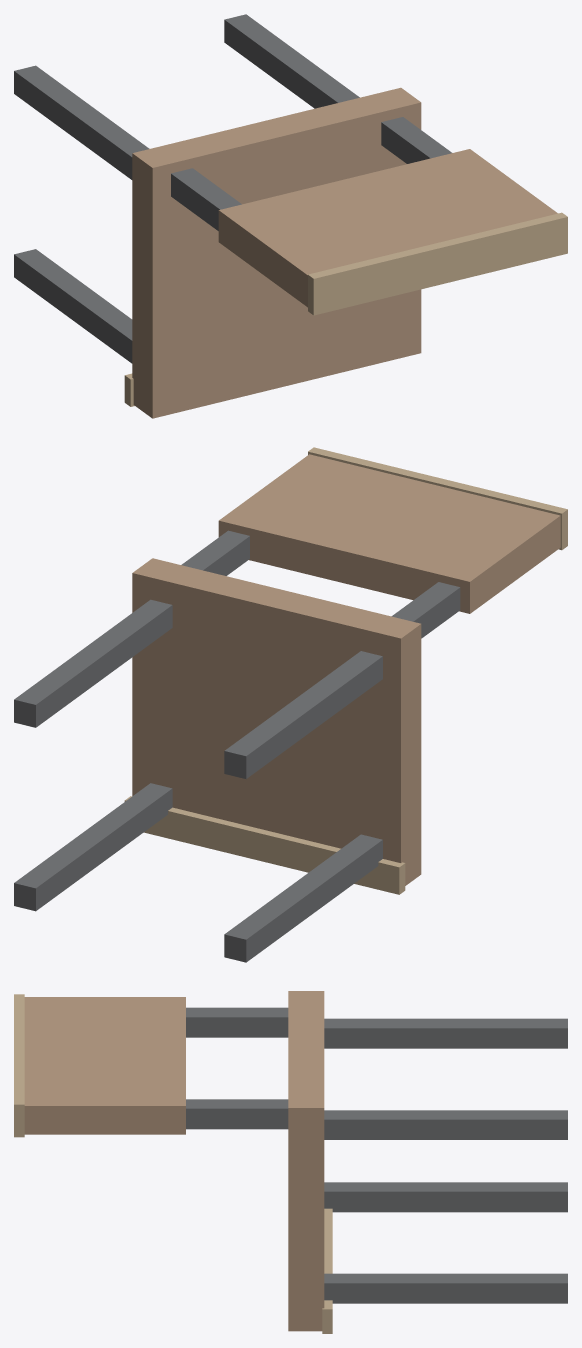
File: low_poly_chair.glb
3 renders of one model, top to bottom at view 1: azimuth 30°, elevation 25°; view 2: azimuth 150°, elevation 25°; view 3: azimuth 270°, elevation 25°, orthographic. The views are drawn at different scales.
Parts seen in each view (by area): view 1: seat, backrest, backrest_top_trim, leg_-0.36_0.3, leg_-0.36_-0.3, leg_0.36_0.3, back_post_-0.36, back_post_0.36; view 2: seat, backrest, leg_0.36_0.3, leg_-0.36_0.3, leg_-0.36_-0.3, leg_0.36_-0.3, seat_front_trim, backrest_top_trim, back_post_-0.36, back_post_0.36; view 3: backrest, seat, leg_-0.36_0.3, leg_0.36_-0.3, leg_-0.36_-0.3, leg_0.36_0.3, back_post_-0.36, back_post_0.36, backrest_top_trim, seat_front_trim.
Boxes of the visible parts, x1,y1,x2,y2 form: seat: [132, 87, 421, 418]; backrest: [218, 149, 557, 307]; backrest_top_trim: [308, 212, 567, 315]; leg_-0.36_0.3: [14, 65, 149, 179]; leg_-0.36_-0.3: [14, 249, 132, 363]; leg_0.36_0.3: [224, 14, 359, 108]; back_post_-0.36: [171, 168, 241, 230]; back_post_0.36: [381, 117, 451, 163]; seat: [132, 558, 421, 885]; backrest: [218, 454, 560, 613]; leg_0.36_0.3: [14, 599, 172, 727]; leg_-0.36_0.3: [224, 651, 382, 778]; leg_-0.36_-0.3: [224, 834, 382, 962]; leg_0.36_-0.3: [14, 783, 172, 911]; seat_front_trim: [124, 796, 405, 894]; backrest_top_trim: [308, 447, 567, 550]; back_post_-0.36: [391, 582, 460, 638]; back_post_0.36: [181, 530, 249, 575]; backrest: [24, 997, 185, 1134]; seat: [288, 991, 324, 1331]; leg_-0.36_0.3: [324, 1018, 567, 1048]; leg_0.36_-0.3: [324, 1273, 567, 1303]; leg_-0.36_-0.3: [324, 1182, 567, 1212]; leg_0.36_0.3: [324, 1110, 567, 1139]; back_post_-0.36: [186, 1007, 288, 1037]; back_post_0.36: [186, 1099, 288, 1129]; backrest_top_trim: [14, 994, 24, 1137]; seat_front_trim: [322, 1208, 332, 1333].
Bounding box in the file's own units: 0.94 × 0.825 × 1.84.
